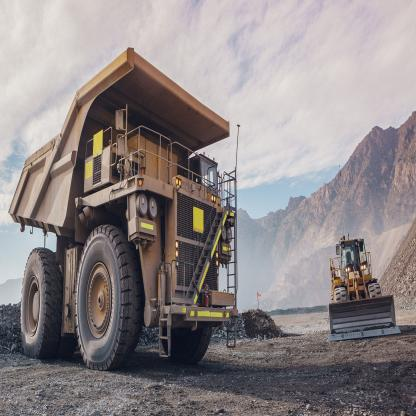bull_dozer/loader/grader: (312, 196, 407, 360)
excavator: (7, 38, 249, 376)
